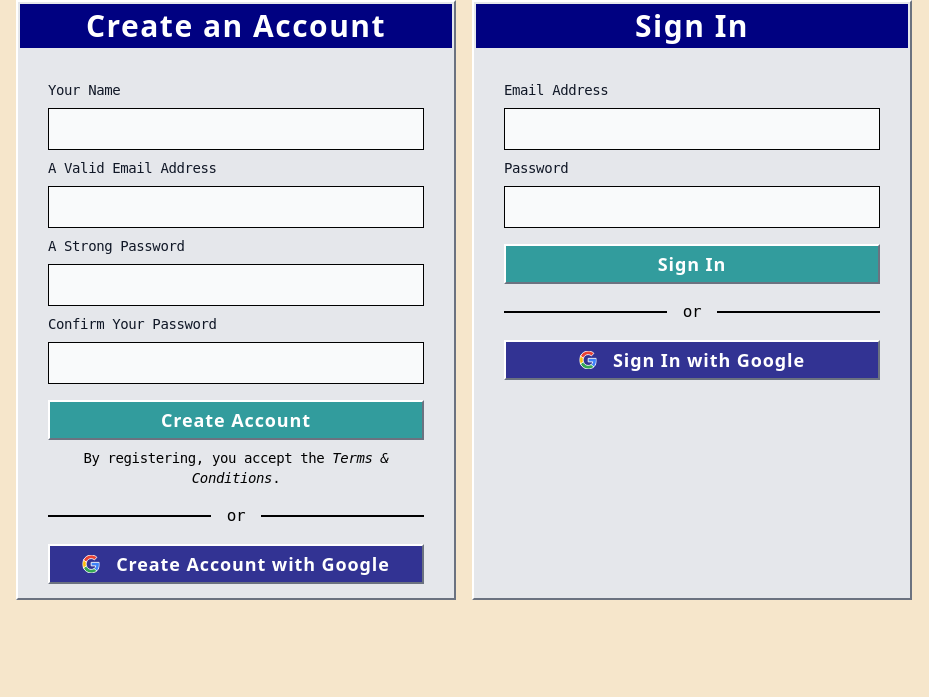
Scenario: Sign Up Integration › should display error message on sign-up failure
Note: Fill and submit form
Step 1. Type "Test User" into the field labelled "Your Name" → (236, 129), box [48, 108, 424, 150]
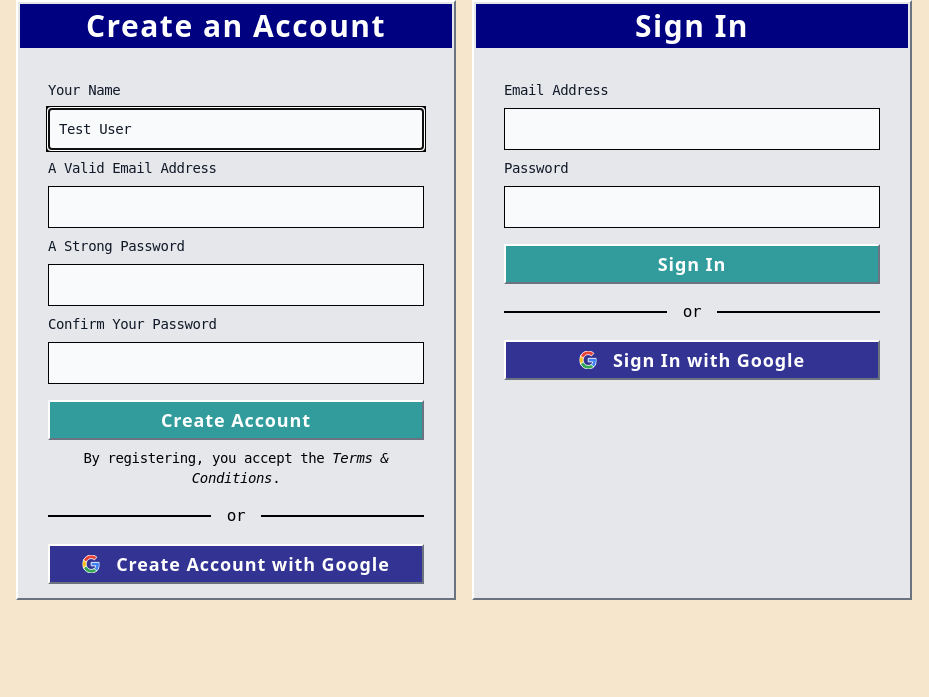
Step 2. Type "test@example.com" into the field labelled "A Valid Email Address" → (236, 207), box [48, 186, 424, 228]
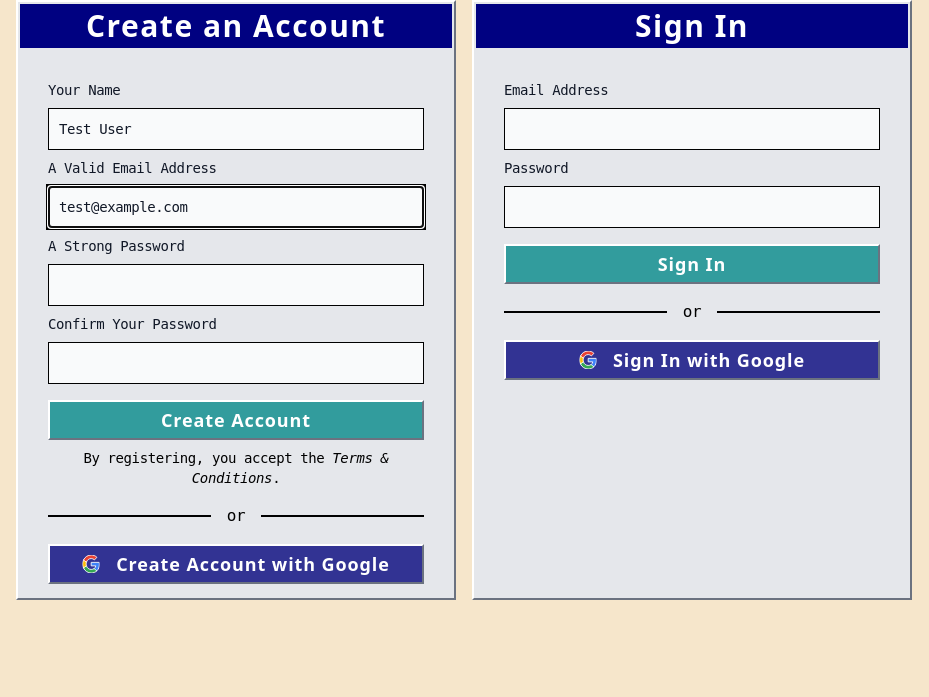
Step 3. Type "password123" into the password field labelled "A Strong Password" → (236, 285), box [48, 264, 424, 306]
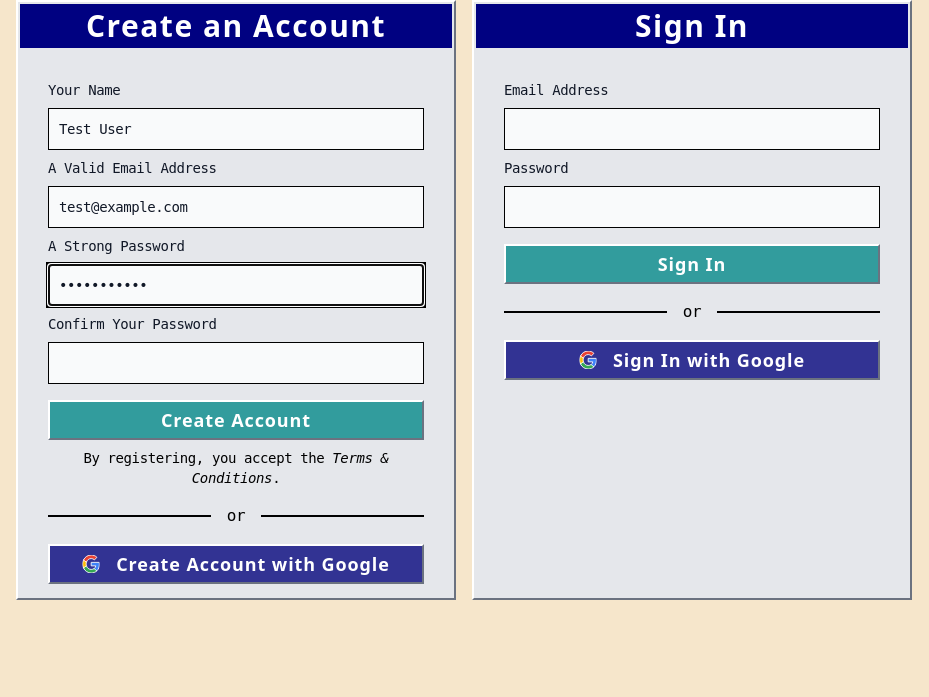
Step 4. Type "password123" into the password field labelled "Confirm Your Password" → (236, 363), box [48, 342, 424, 384]
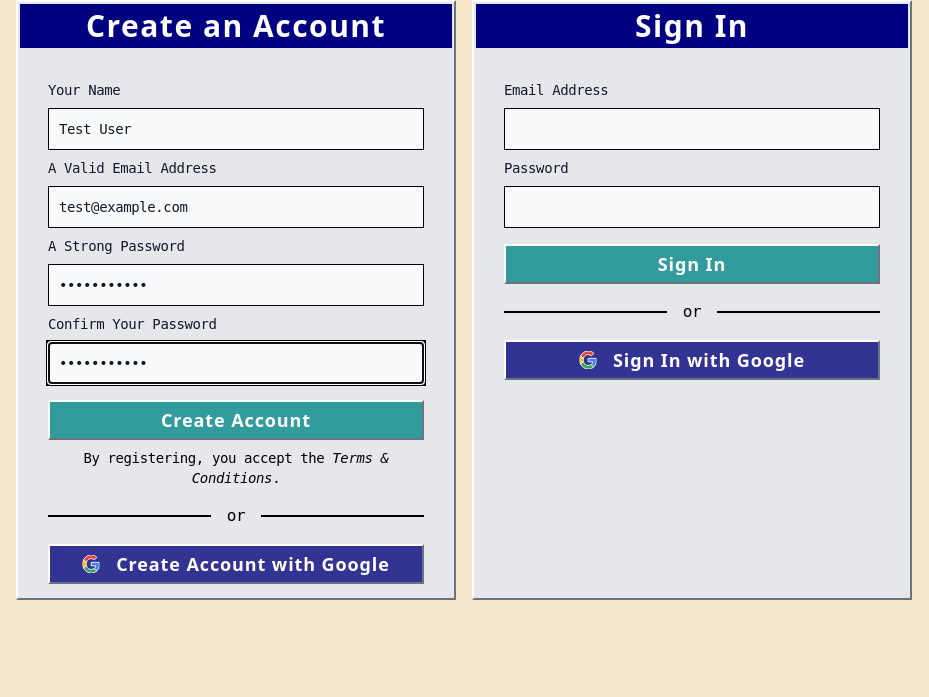
Step 5. Click the button "Create Account" → (236, 420), box [48, 400, 424, 440]
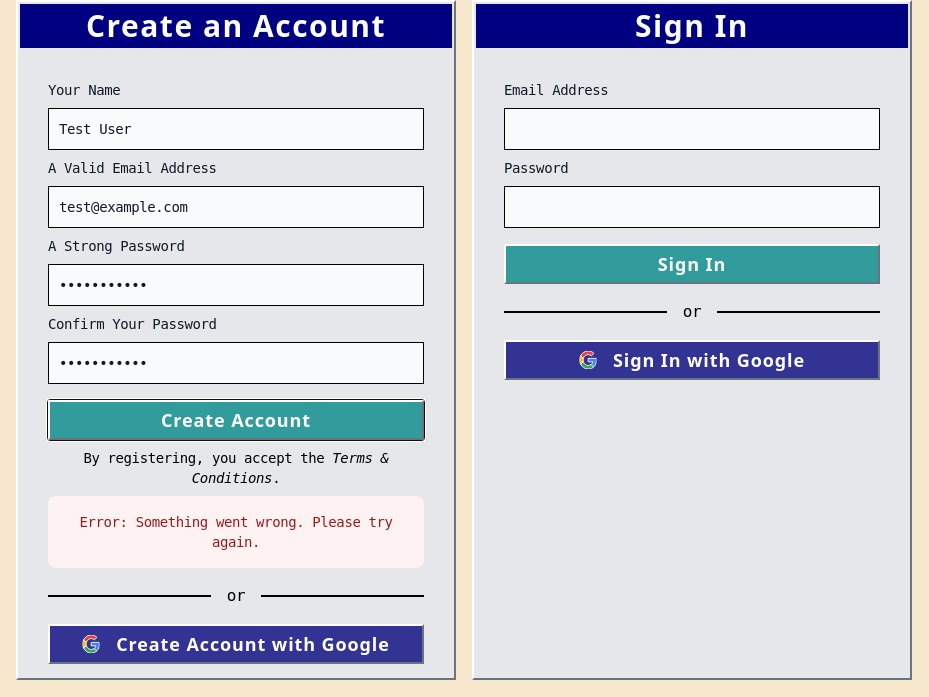
Expected: the message "Error: Something went wrong. Please try again." is shown, [48, 496, 424, 568]
Expected: the text "Something went wrong. Please try again." is shown, [136, 514, 392, 550]
